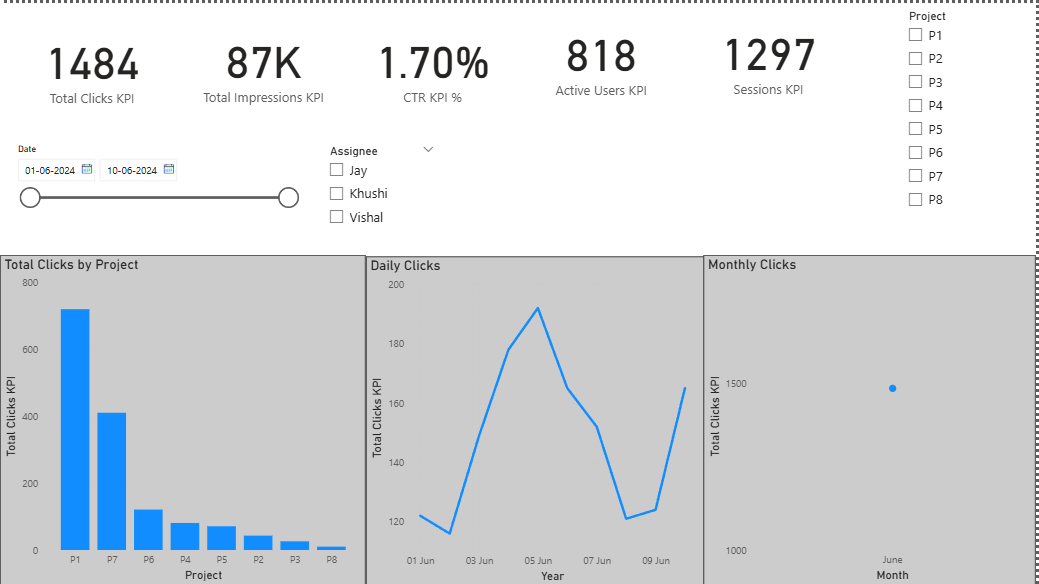

The dashboard page shown, as its layout file describes it:
{"tool":"powerbi","page":{"name":"Google_search_dashboard","canvas":[1280,720],"ordinal":0},"visuals":[{"type":"card","fields":{"Values":["Master_Data.Total Clicks KPI"]},"box":[0,1.9,226.8,153.1],"z":0},{"type":"card","fields":{"Values":["Master_Data.Total Impressions KPI"]},"box":[226.8,0,198.4,155],"z":1000},{"type":"card","fields":{"Values":["Master_Data.CTR KPI %"]},"box":[425.2,0,215.4,155],"z":2000},{"type":"card","fields":{"Values":["Master_Data.Active Users KPI"]},"box":[640.6,1.9,202.2,132.3],"z":3000},{"type":"card","fields":{"Values":["Master_Data.Sessions KPI"]},"box":[842.8,0,211.7,134.2],"z":4000},{"type":"slicer","fields":{"Values":["Master_Data.Project"]},"box":[1109.3,1.9,170.1,264.6],"z":5000},{"type":"slicer","fields":{"Values":["Master_Data.Assignee"]},"box":[395,168.2,153.1,132.3],"z":6000},{"type":"slicer","fields":{"Values":["Master_Data.Date"]},"box":[9.4,168.2,368.5,109.6],"z":7000},{"type":"lineChart","title":"Daily Clicks","fields":{"Y":["Master_Data.Total Clicks KPI"],"Category":["Master_Data.Date.Variation.Date Hierarchy.Year","Master_Data.Date.Variation.Date Hierarchy.Quarter","Master_Data.Date.Variation.Date Hierarchy.Month","Master_Data.Date.Variation.Date Hierarchy.Day"]},"box":[451.8,312.5,417.8,408],"z":8000},{"type":"clusteredColumnChart","title":"Total Clicks  by Project","fields":{"Category":["Master_Data.Project"],"Y":["Master_Data.Total Clicks KPI"]},"box":[0,311.8,451.7,408.2],"z":9000},{"type":"lineChart","title":"Monthly Clicks","fields":{"Category":["Master_Data.Date.Variation.Date Hierarchy.Month"],"Y":["Master_Data.Total Clicks KPI"]},"box":[869.3,311.8,410.1,408.2],"z":10000}]}

Visuals, with their boxes in screenshot pixels (x1, y1, x2, y2), scaled from the page's 1280x720 canvas onto the 1039x584 screenshot:
card - Master_Data.Total Clicks KPI: 0 2 184 126
card - Master_Data.Total Impressions KPI: 184 0 345 126
card - Master_Data.CTR KPI %: 345 0 520 126
card - Master_Data.Active Users KPI: 520 2 684 109
card - Master_Data.Sessions KPI: 684 0 856 109
slicer - Master_Data.Project: 900 2 1038 216
slicer - Master_Data.Assignee: 321 136 445 244
slicer - Master_Data.Date: 8 136 307 225
"Daily Clicks" lineChart: 367 253 706 583
"Total Clicks  by Project" clusteredColumnChart: 0 253 367 583
"Monthly Clicks" lineChart: 706 253 1038 583
